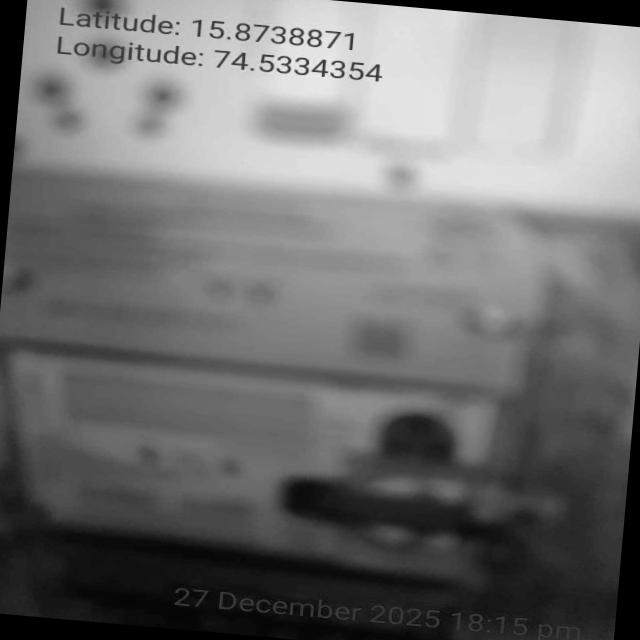meter: (0, 149, 547, 582)
